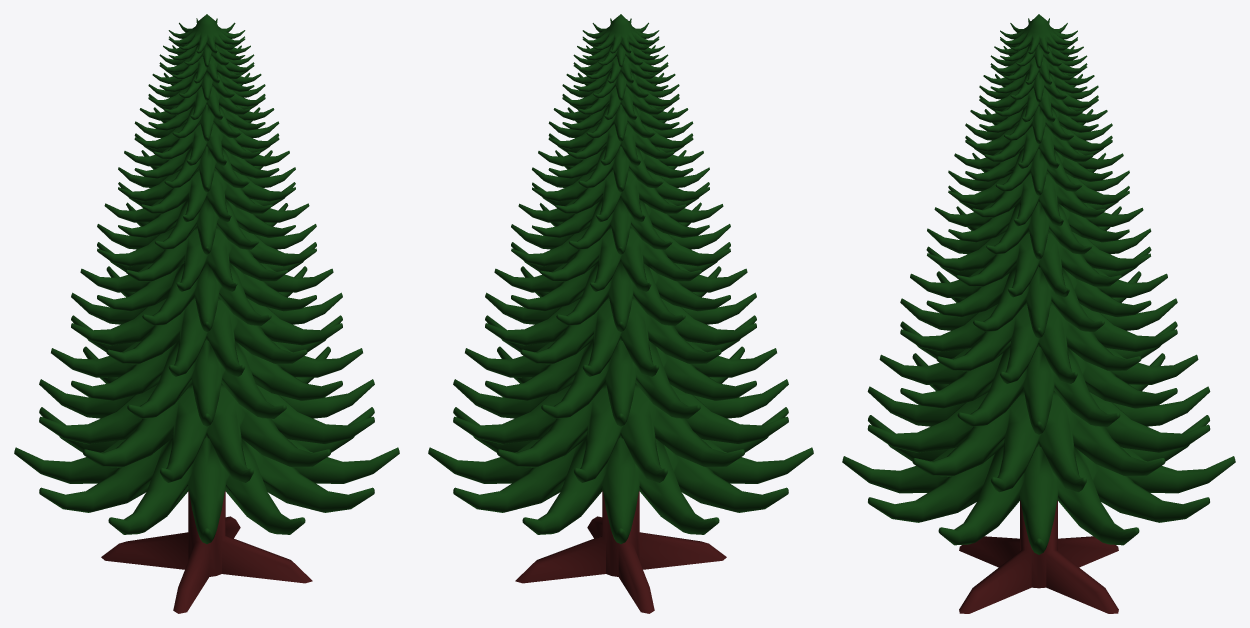
The model's file is tree.fbx.
3 renders of one model, left to right at view 1: azimuth 30°, elevation 25°; view 2: azimuth 150°, elevation 25°; view 3: azimuth 270°, elevation 25°, orthographic.
Visible parts, largest first — view 1: arbol, tronco; view 2: arbol, tronco; view 3: arbol, tronco.
Boxes of the visible parts, box(x1,y1,x2,y2) form: arbol: box(14, 14, 399, 543); tronco: box(101, 491, 312, 613); arbol: box(428, 14, 813, 543); tronco: box(515, 491, 726, 613); arbol: box(842, 14, 1235, 554); tronco: box(959, 500, 1118, 613).
Bounding box in the file's own units: 205 × 326 × 205.
